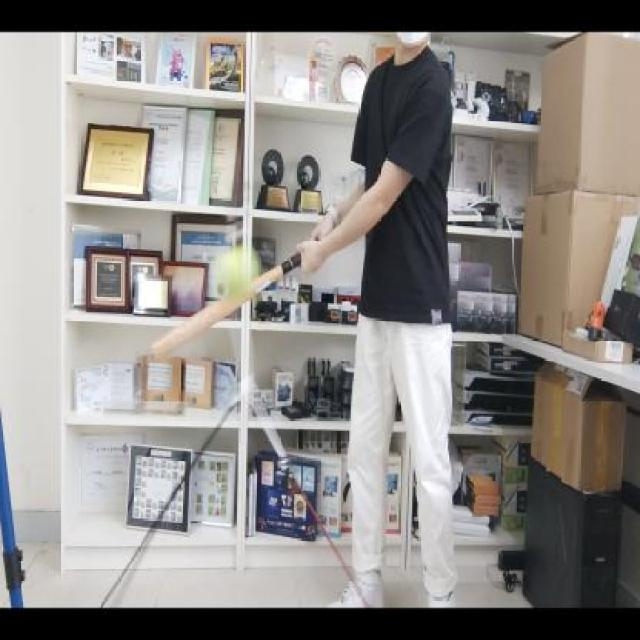baseball: (217, 245, 261, 304)
